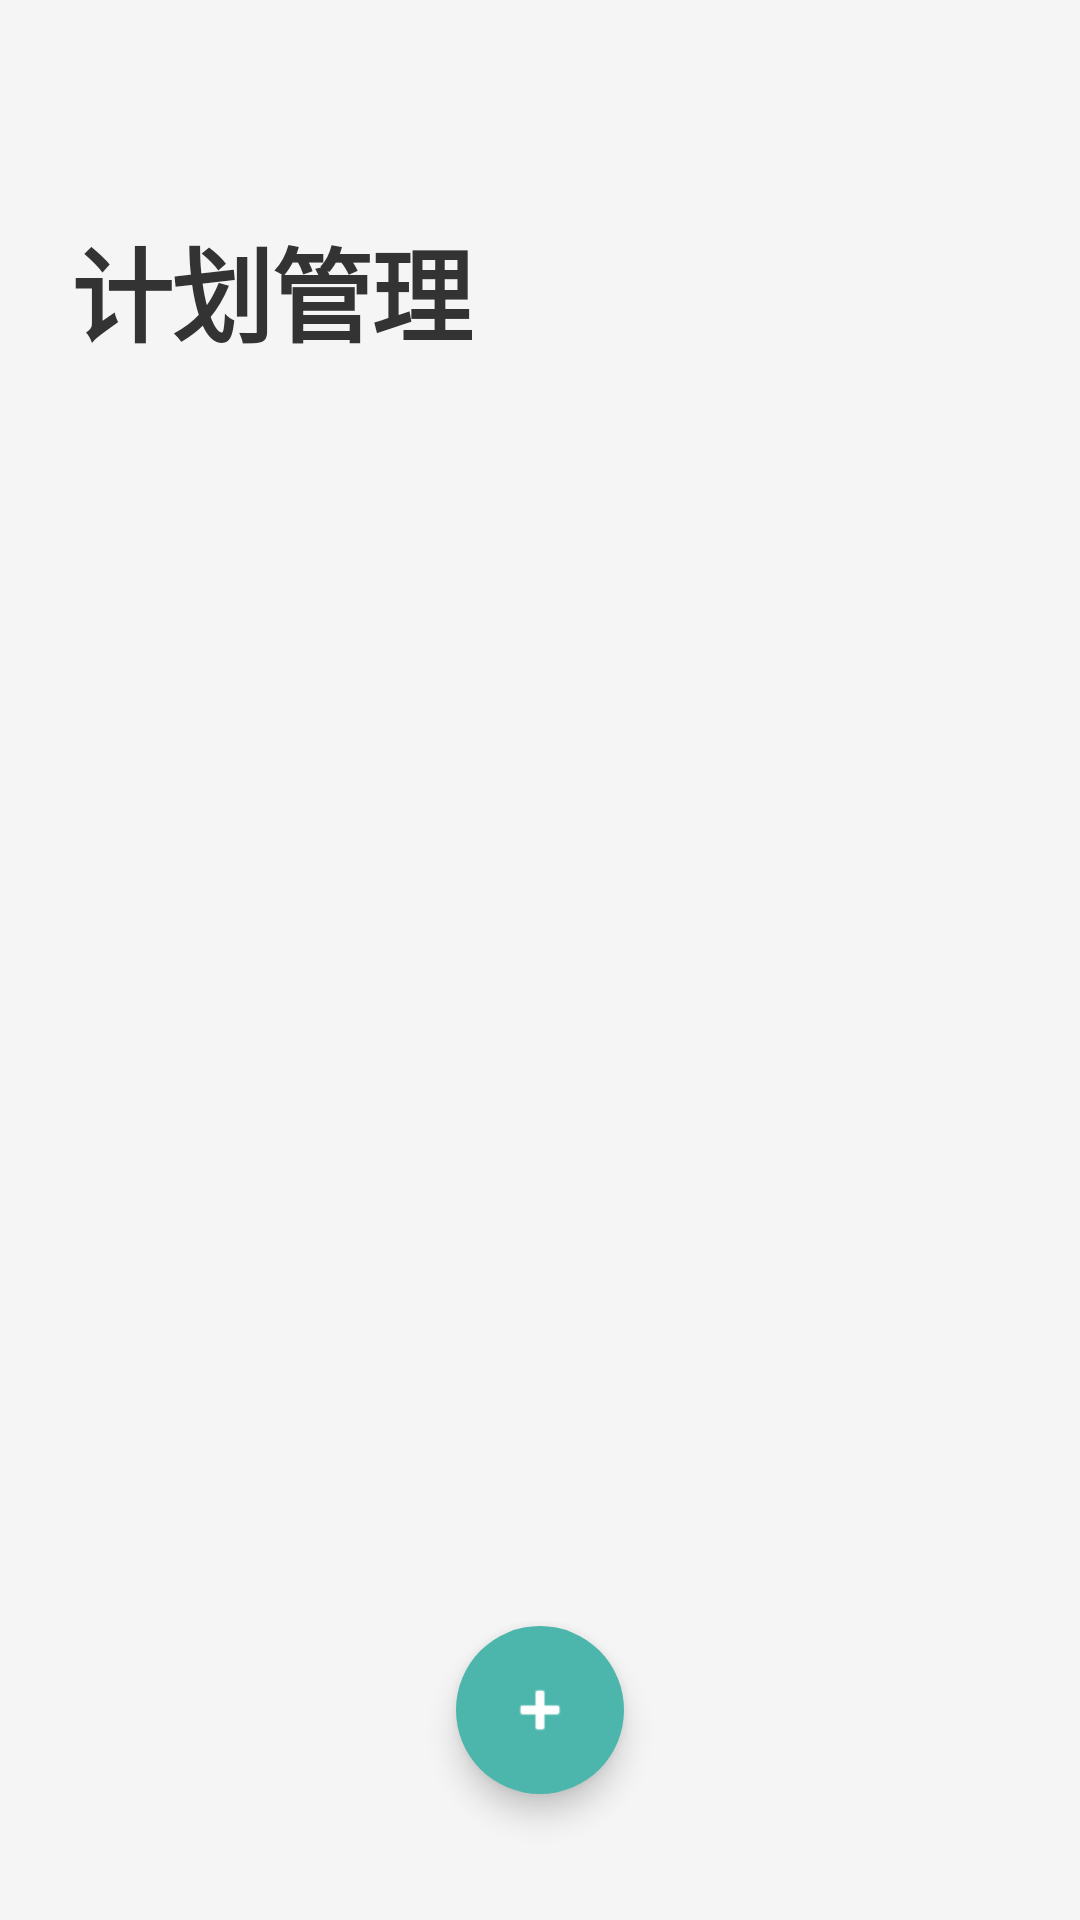

Icon click points for this 1080 x 1920 phone screenshot, format (x=x, y=y):
add: (x=540, y=1710)
